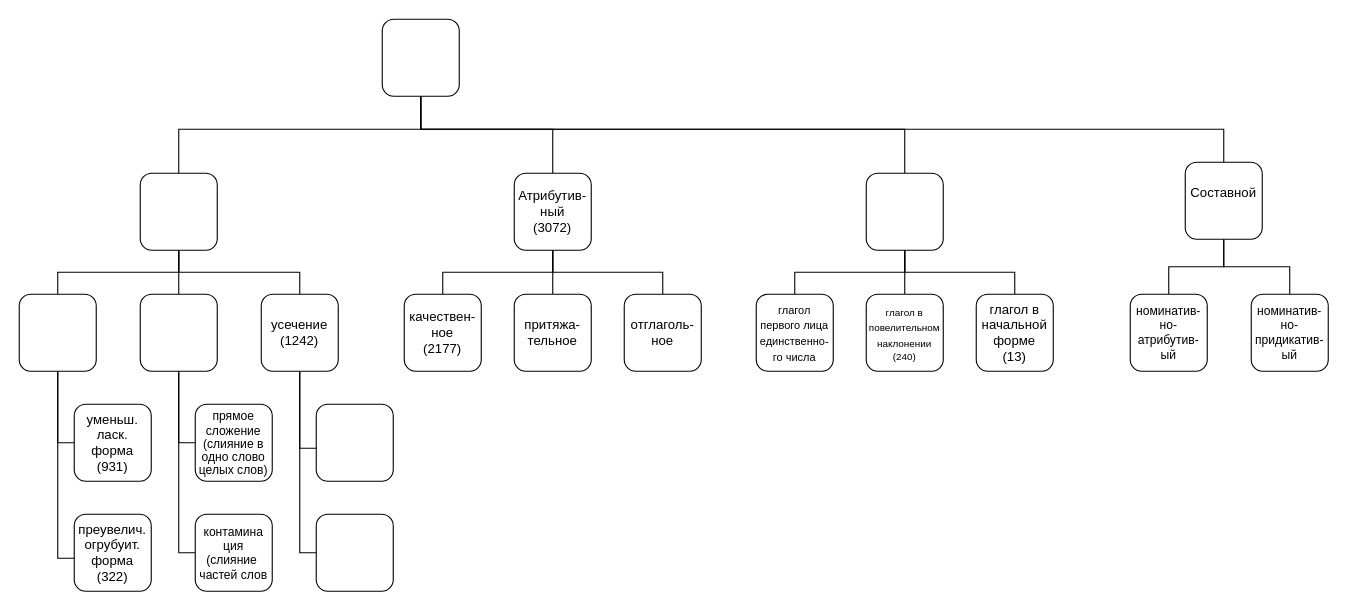
This 1348x611 diagram has some shape labels left out. Each missing label, with the box of its shape:
Акроним (7): (315, 513, 393, 591)
Никнейм: (381, 18, 459, 96)
Номинатив ный (3682): (139, 172, 217, 250)
Придикати- вный (253): (865, 172, 943, 250)
сложение (1387): (139, 293, 217, 371)
сокраще- ни слова (1235): (315, 403, 393, 481)
суффикса- ция (1253): (18, 293, 96, 371)
